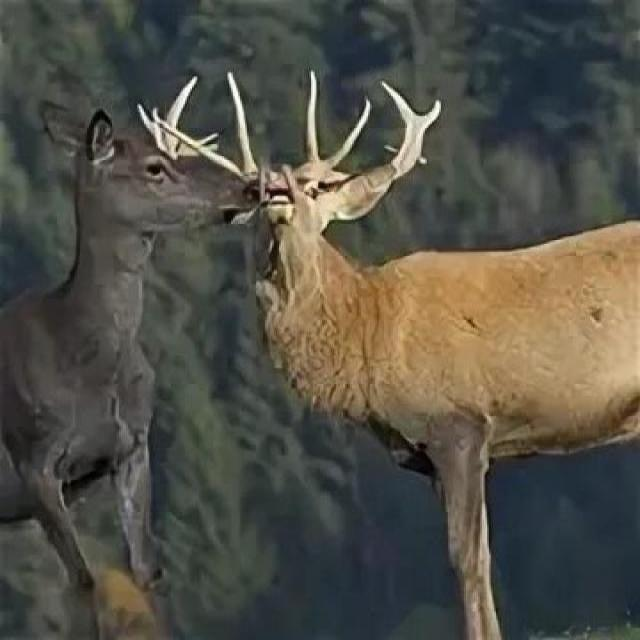deer: (196, 93, 640, 524), (6, 85, 248, 563)
